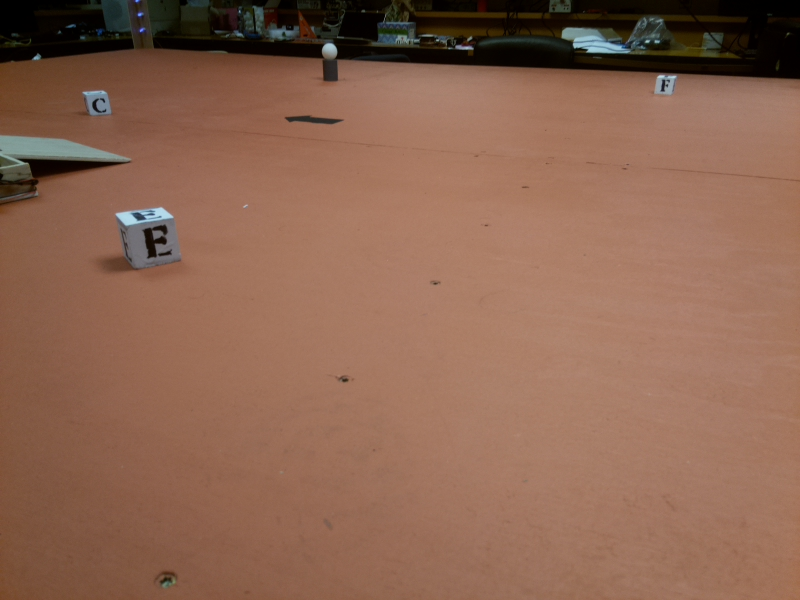blockC: (85, 89, 111, 116)
blockE: (109, 206, 180, 267)
blockF: (652, 73, 677, 96)
corner: (129, 1, 155, 53)
obstacle: (321, 45, 340, 84)
side: (1, 164, 42, 205)
slope: (1, 129, 136, 165)
start: (283, 113, 342, 130)
